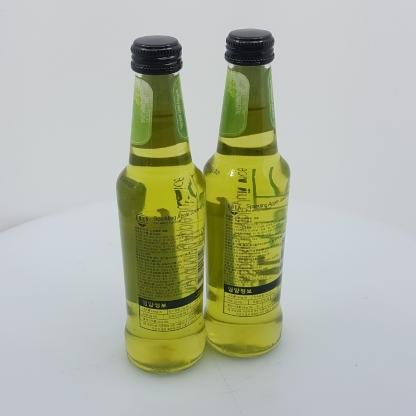----------------: (116, 34, 207, 374), (201, 28, 290, 358)
